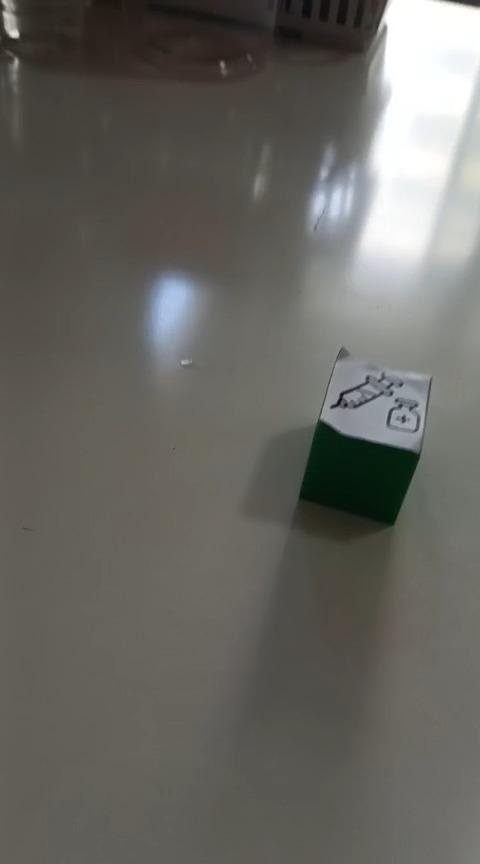antiseptic cream: (296, 344, 433, 526)
